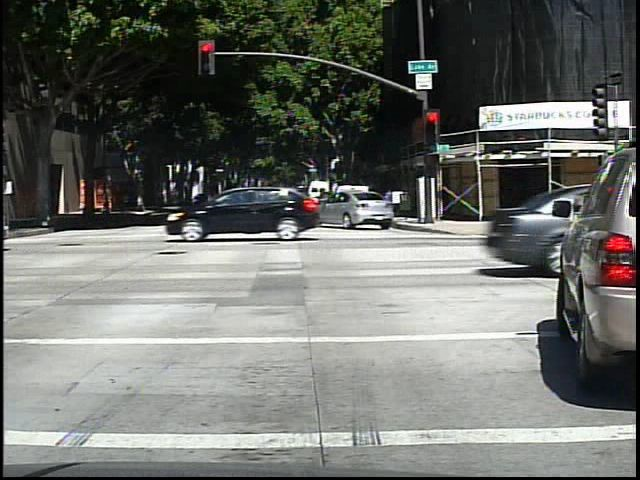person: (98, 185, 112, 219)
